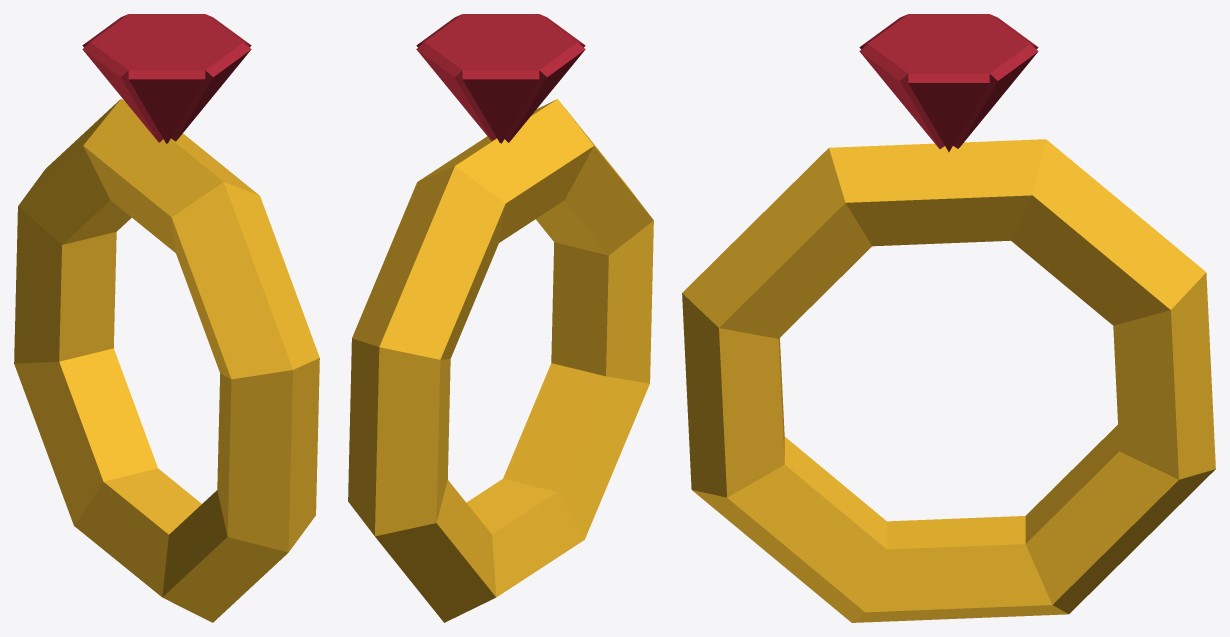
The model's file is Wedding Ring.fbx.
The picture shows the model from 3 angles, left to right: view 1: azimuth 30°, elevation 25°; view 2: azimuth 150°, elevation 25°; view 3: azimuth 270°, elevation 25°; orthographic projection. The views are drawn at different scales.
Visible parts, largest first — view 1: Wedding Ring; view 2: Wedding Ring; view 3: Wedding Ring.
Boxes of the visible parts, x1,y1,x2,y2 form: Wedding Ring: [14, 14, 319, 622]; Wedding Ring: [348, 14, 653, 622]; Wedding Ring: [682, 14, 1215, 622].
Size of the model in its own units: 6.14 by 24.53 by 20.49.
